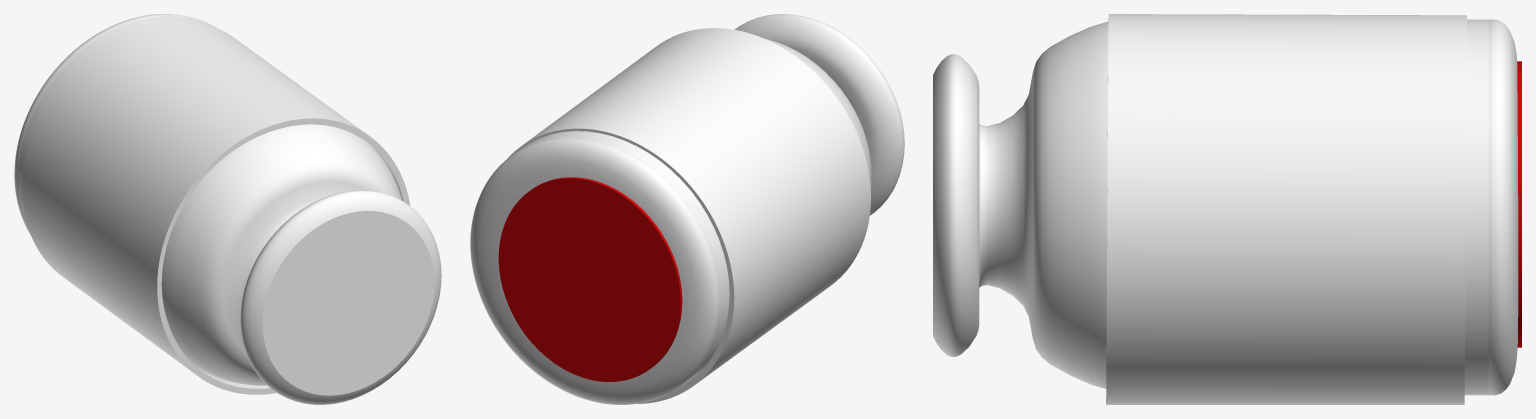
Rendered from PastaSauce.fbx.
The picture shows the model from 3 angles, left to right: view 1: azimuth 30°, elevation 25°; view 2: azimuth 150°, elevation 25°; view 3: azimuth 270°, elevation 25°; orthographic projection. The views are drawn at different scales.
Parts seen in each view (by area): view 1: Object_1, Object_4, Object_5; view 2: Object_4, Object_2, Object_5, Object_1; view 3: Object_4, Object_1, Object_5, Object_2.
Boxes of the visible parts, x1=… form: Object_1: x1=161, y1=124, x2=441, y2=404; Object_4: x1=22, y1=20, x2=410, y2=394; Object_5: x1=14, y1=14, x2=215, y2=235; Object_4: x1=507, y1=28, x2=870, y2=403; Object_2: x1=498, y1=177, x2=682, y2=381; Object_5: x1=470, y1=131, x2=729, y2=404; Object_1: x1=734, y1=14, x2=904, y2=215; Object_4: x1=1106, y1=14, x2=1466, y2=404; Object_1: x1=933, y1=21, x2=1108, y2=388; Object_5: x1=1464, y1=19, x2=1518, y2=395; Object_2: x1=1517, y1=61, x2=1521, y2=347.
Bounding box in the file's own units: 149 × 150 × 226.
